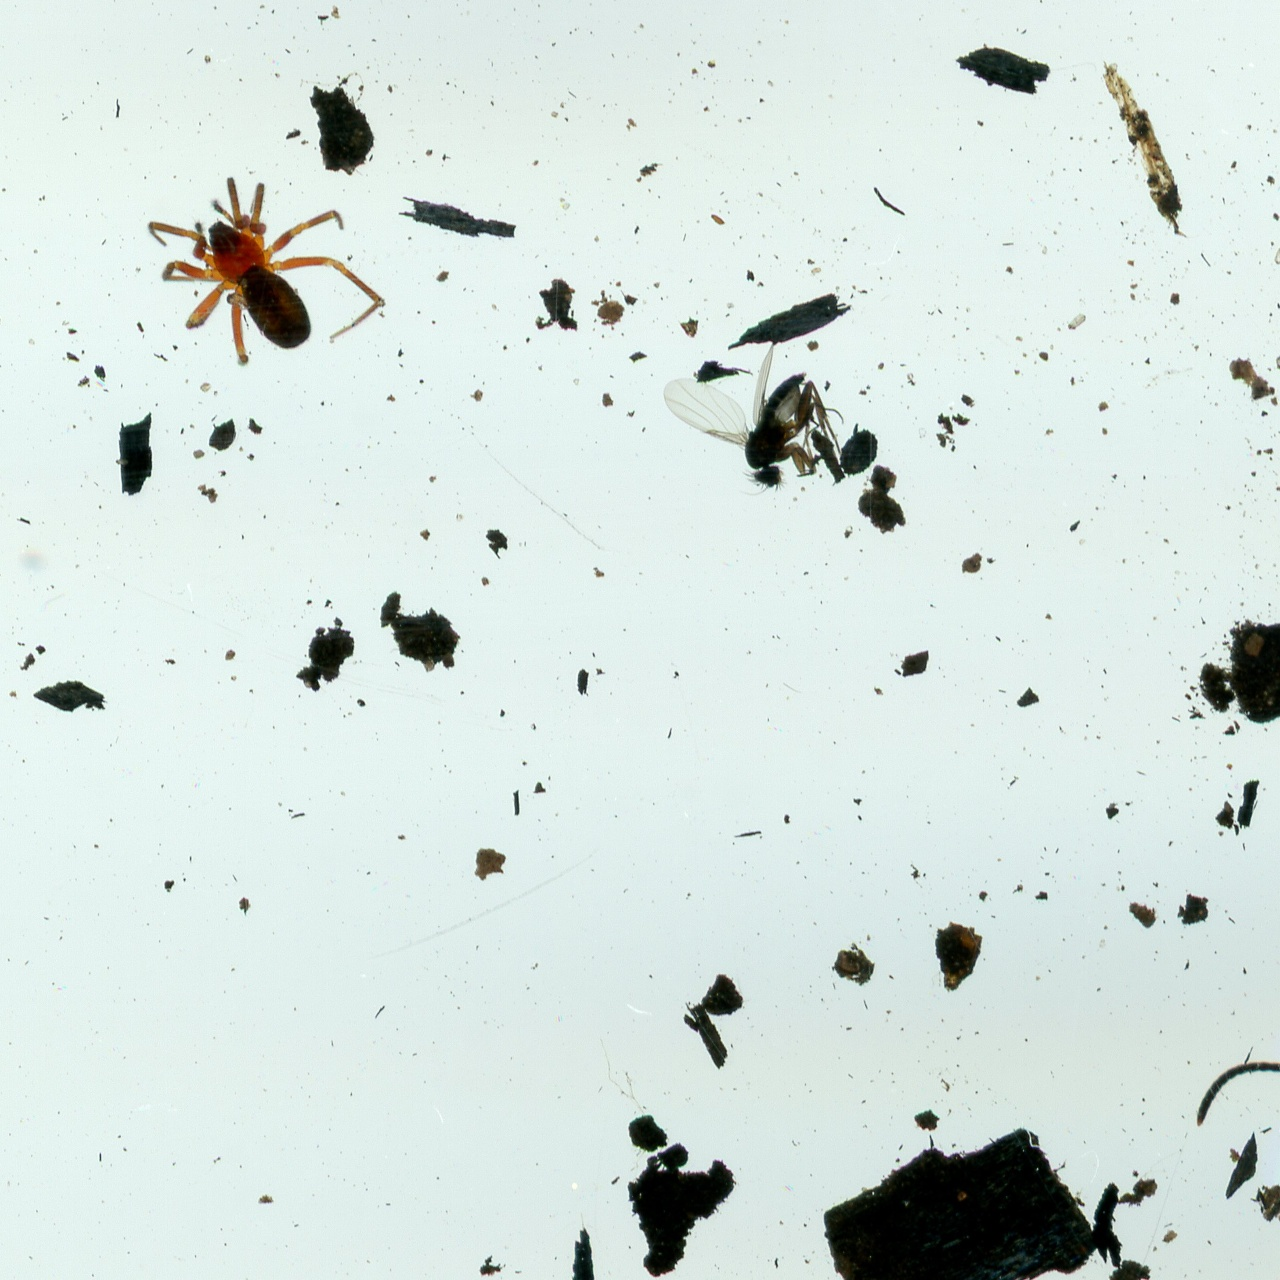arthropod: (143, 171, 389, 374), (655, 340, 846, 503), (1182, 999, 1280, 1280)
